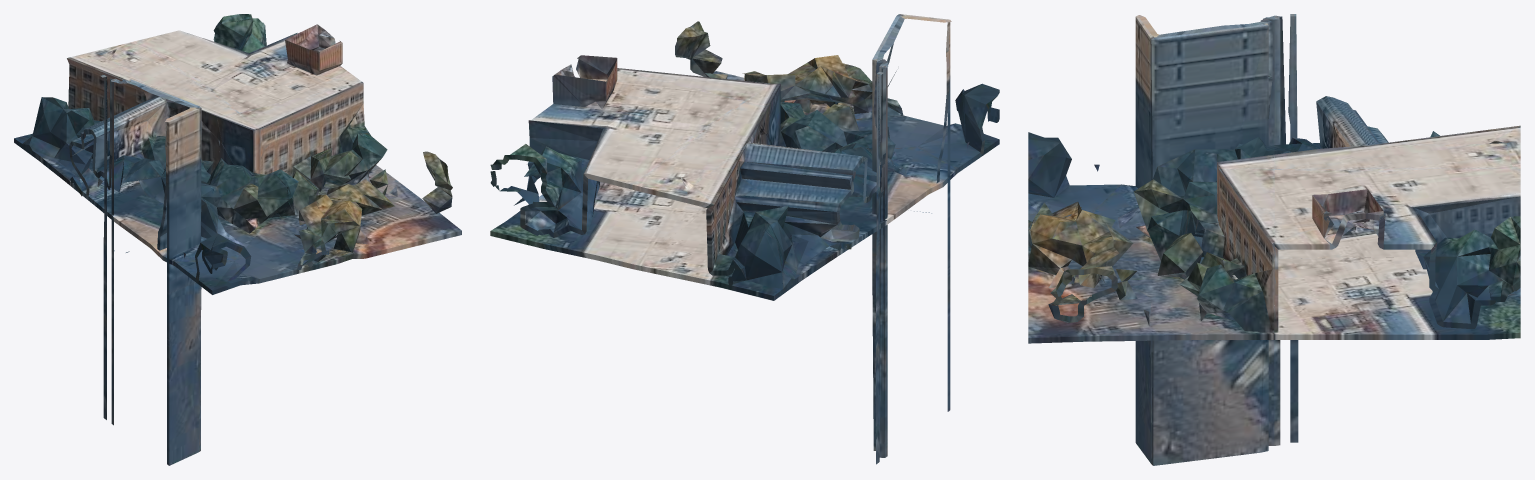
Rendered from chunk_0_-5.glb.
The picture shows the model from 3 angles, left to right: view 1: azimuth 30°, elevation 25°; view 2: azimuth 150°, elevation 25°; view 3: azimuth 270°, elevation 25°; orthographic projection. The views are drawn at different scales.
Visible parts, largest first — view 1: hero-chunk; view 2: hero-chunk; view 3: hero-chunk.
Boxes of the visible parts, box(x1,y1,x2,y2) form: hero-chunk: box(14, 14, 461, 465); hero-chunk: box(490, 14, 999, 464); hero-chunk: box(1028, 14, 1520, 465).
Bounding box in the file's own units: 56.34 × 73 × 76.32.
Materials: 1 (1 with a texture image).
